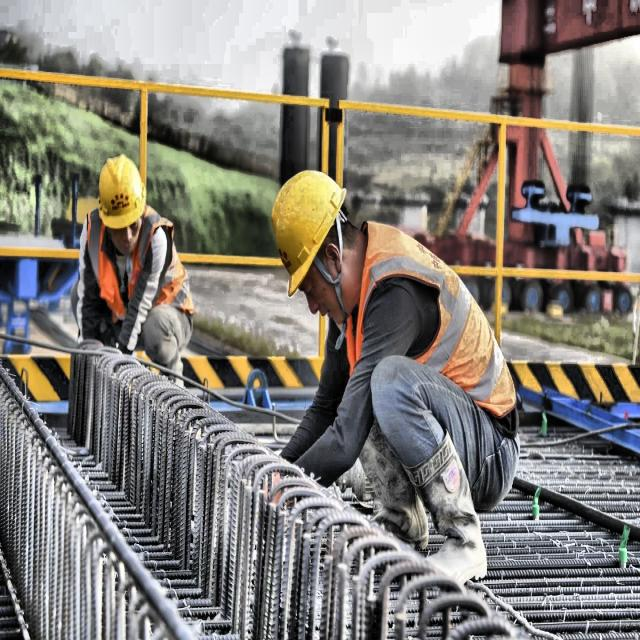safety_helmet: (268, 167, 349, 302), (91, 150, 153, 230)
safety_jacket: (344, 218, 519, 424), (82, 206, 192, 327)
